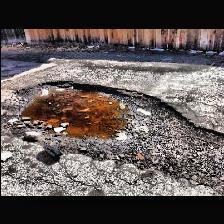pothole: (8, 78, 196, 184)
